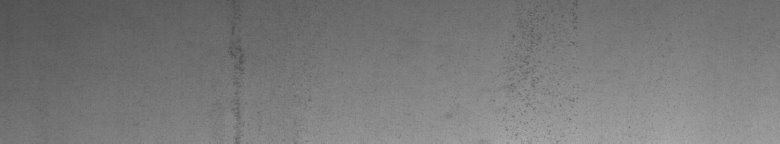ib: (516, 25, 578, 115)
